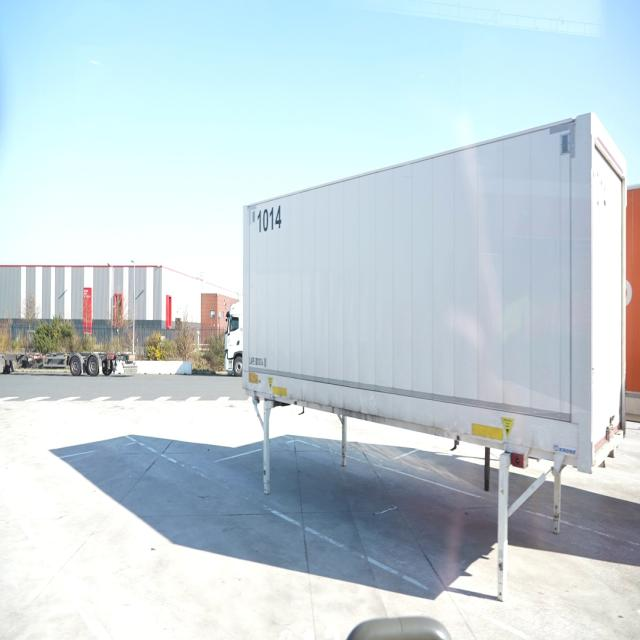Code: (253, 198, 290, 237)
